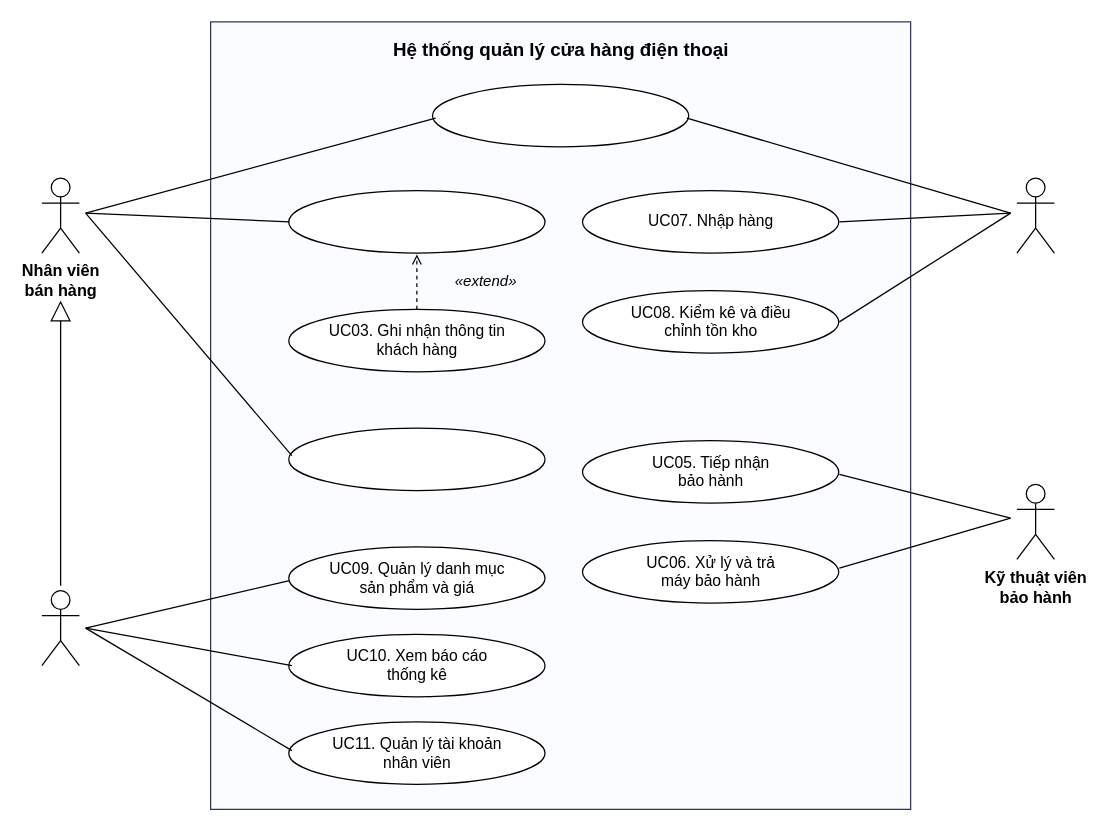
Image size: 1113x831. Some labels were removed from this diagram. The box of each missing label's shape, as (x1, y1, x2, y2) in pixels:
Nhân viên kho: (1016, 177, 1054, 253)
Quản lý cửa hàng: (41, 589, 79, 666)
UC01. Tra cứu sản phẩm và tồn kho: (431, 83, 689, 147)
UC02. Bán hàng: (288, 189, 545, 253)
UC04. Đổi sản phẩm: (288, 427, 545, 491)
